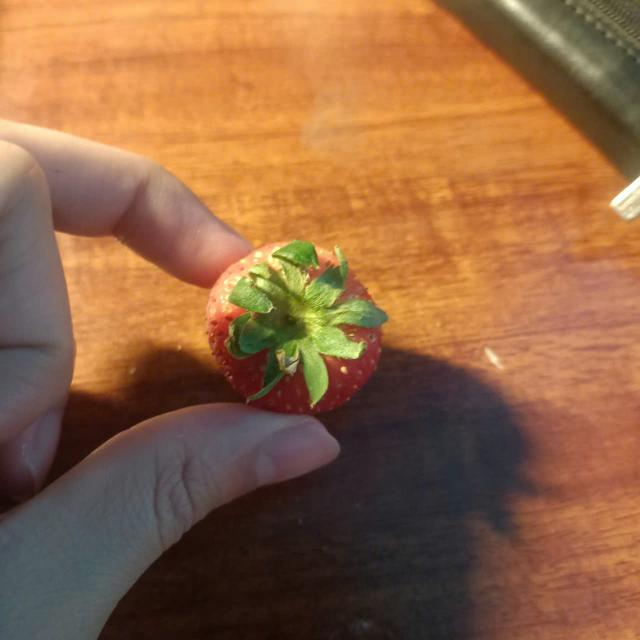DauTay: (185, 227, 408, 420)
